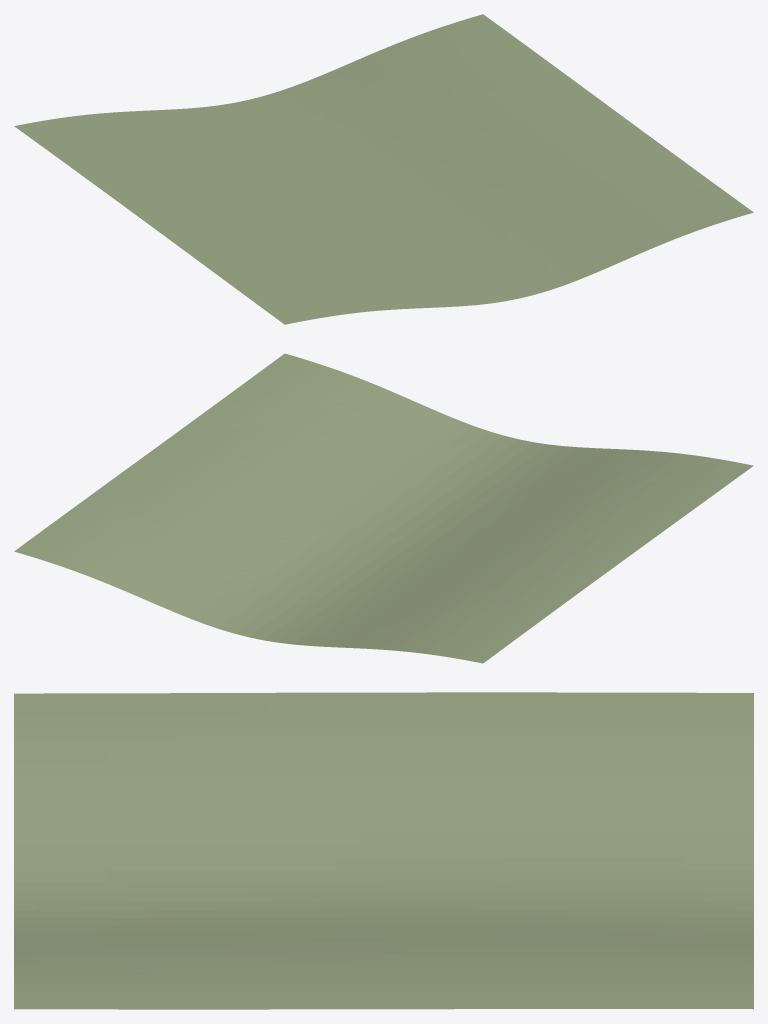
Rendered from desert-13-6.glb.
3 renders of one model, top to bottom at view 1: azimuth 30°, elevation 25°; view 2: azimuth 150°, elevation 25°; view 3: azimuth 270°, elevation 25°, orthographic. The views are drawn at different scales.
Visible parts, largest first — view 1: desert-13-6; view 2: desert-13-6; view 3: desert-13-6.
Part boxes in pixels (bbox=[...]): desert-13-6: bbox=[14, 14, 753, 324]; desert-13-6: bbox=[14, 353, 753, 663]; desert-13-6: bbox=[14, 692, 753, 1009].
Bounding box in the file's own units: 512 × 33.25 × 512.
